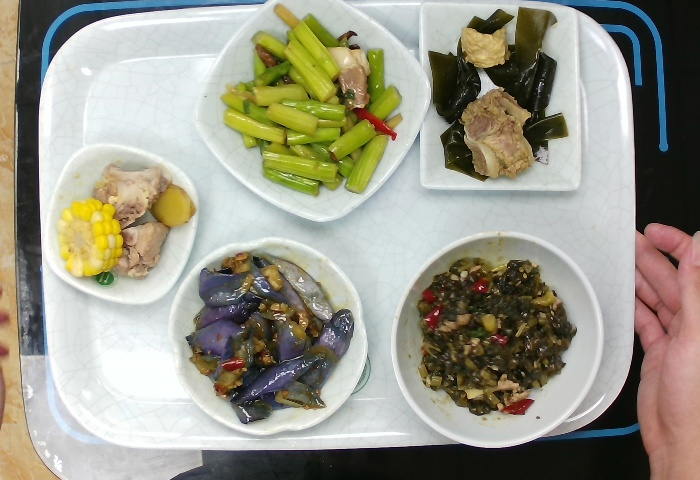JYsf-Ao_Yuan_Wan: (166, 237, 369, 437)
JYsf-Fan_Wan: (388, 230, 605, 450)
JYsf-Si_Fang_Die: (41, 140, 201, 307)
WCQzf-Da_Si_Fang_Die: (191, 1, 432, 225)
WCQzf-Ru_Ci_Si_Fang_Die: (416, 1, 586, 198)
